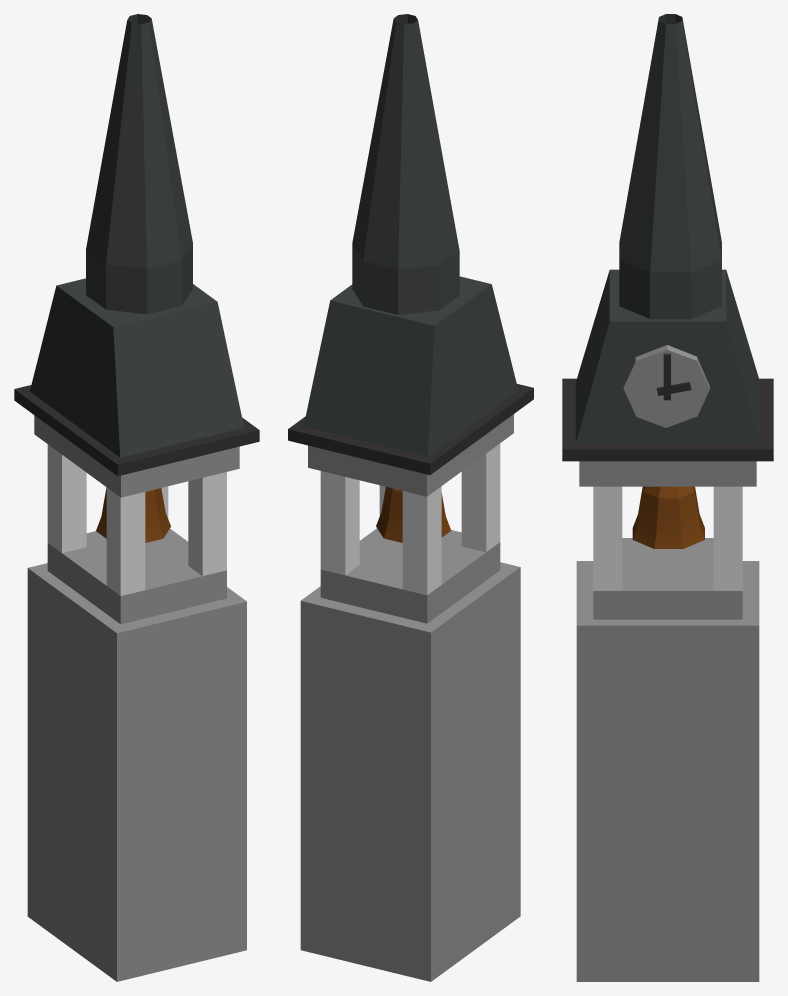
Rendered from env_bell_tower.fbx.
3 renders of one model, left to right at view 1: azimuth 30°, elevation 25°; view 2: azimuth 150°, elevation 25°; view 3: azimuth 270°, elevation 25°, orthographic. The views are drawn at different scales.
Parts seen in each view (by area): view 1: pCube65, pCube70, tower_top, pCube465, pCube464, pCube466, bell; view 2: pCube65, pCube70, tower_top, pCube466, pCube69, pCube465, bell; view 3: pCube65, pCube70, tower_top, clock, bell, pCube69, pCube464.
Part boxes in pixels (x1=…): pCube65: x1=27, y1=529, x2=246, y2=981; pCube70: x1=14, y1=278, x2=259, y2=497; tower_top: x1=86, y1=14, x2=192, y2=314; pCube465: x1=106, y1=487, x2=145, y2=595; pCube464: x1=188, y1=472, x2=226, y2=576; pCube466: x1=47, y1=444, x2=86, y2=552; bell: x1=96, y1=487, x2=170, y2=542; pCube65: x1=300, y1=528, x2=520, y2=981; pCube70: x1=288, y1=276, x2=533, y2=496; tower_top: x1=352, y1=14, x2=459, y2=314; pCube466: x1=402, y1=486, x2=441, y2=595; pCube69: x1=320, y1=471, x2=359, y2=575; pCube465: x1=461, y1=443, x2=500, y2=551; bell: x1=376, y1=487, x2=451, y2=542; pCube65: x1=576, y1=538, x2=759, y2=981; pCube70: x1=562, y1=269, x2=773, y2=486; tower_top: x1=619, y1=14, x2=721, y2=319; clock: x1=623, y1=345, x2=709, y2=427; bell: x1=632, y1=486, x2=704, y2=548; pCube69: x1=713, y1=486, x2=742, y2=590; pCube464: x1=593, y1=486, x2=622, y2=590.
Size of the model in its own units: 327 by 2010 by 413.
Materials: 1 (1 with a texture image).
